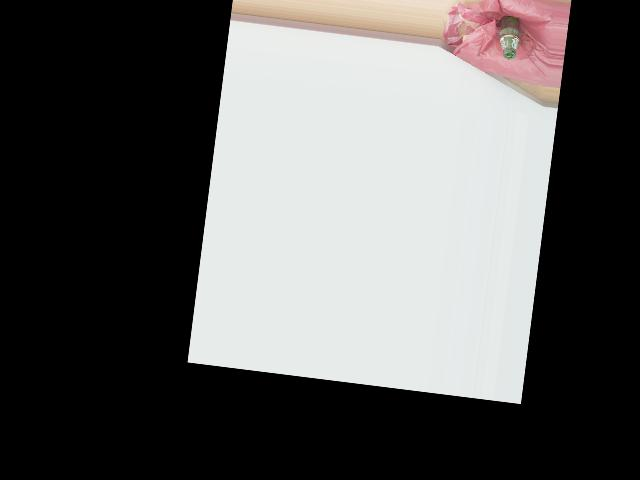beer: (494, 14, 524, 60)
